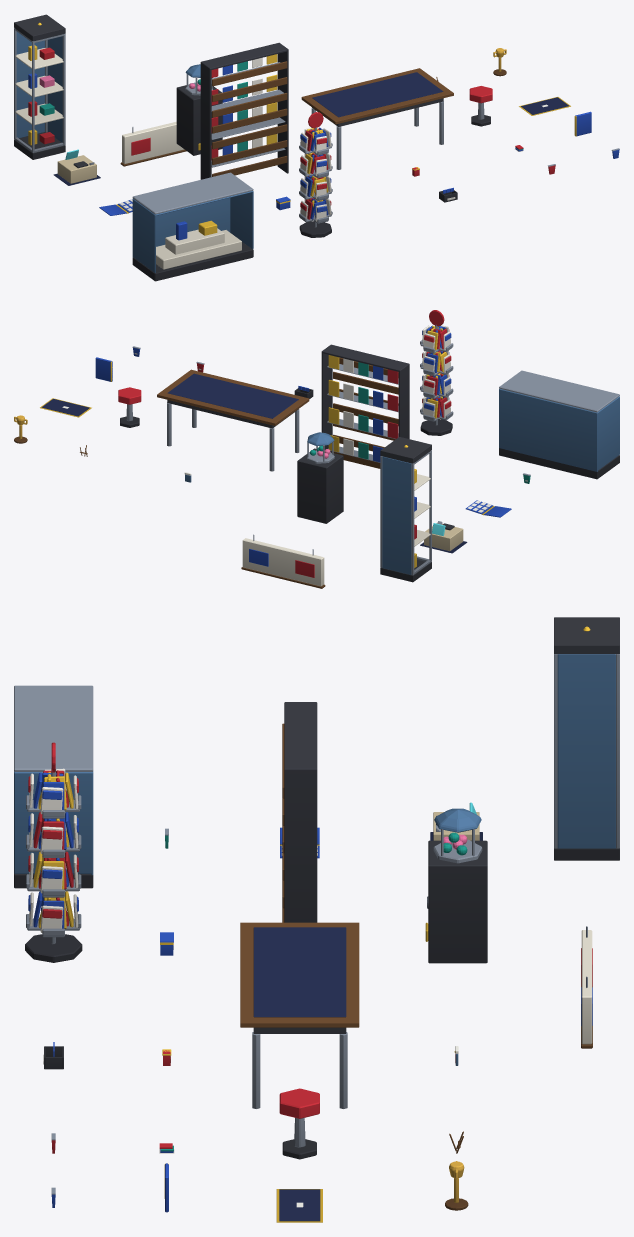
Rendered from pack.fbx.
3 renders of one model, top to bottom at view 1: azimuth 30°, elevation 25°; view 2: azimuth 150°, elevation 25°; view 3: azimuth 270°, elevation 25°, orthographic. The views are drawn at different scales.
Visible parts, largest first — view 1: glass_counter, slat_wall, display_tower, play_table, spinner_rack, gacha_machine, shop_sign, register_pos, play_stool, playmat, binder_closed; view 2: glass_counter, slat_wall, display_tower, play_table, gacha_machine, spinner_rack, shop_sign, register_pos, play_stool, playmat, binder_open, binder_closed; view 3: display_tower, play_table, glass_counter, spinner_rack, gacha_machine, slat_wall, play_stool, playmat, shop_sign.
Boxes of the visible parts, left/top/right/bottom form: glass_counter: left=132, top=172, right=253, bottom=281; slat_wall: left=200, top=42, right=288, bottom=179; display_tower: left=14, top=14, right=65, bottom=159; play_table: left=301, top=68, right=453, bottom=169; spinner_rack: left=299, top=112, right=332, bottom=237; gacha_machine: left=176, top=64, right=222, bottom=155; shop_sign: left=120, top=121, right=186, bottom=166; register_pos: left=53, top=149, right=100, bottom=185; play_stool: left=469, top=86, right=492, bottom=126; playmat: left=519, top=97, right=570, bottom=115; binder_closed: left=574, top=111, right=591, bottom=136; glass_counter: left=499, top=370, right=619, bottom=479; slat_wall: left=321, top=344, right=409, bottom=468; display_tower: left=380, top=437, right=431, bottom=582; play_table: left=157, top=369, right=309, bottom=471; gacha_machine: left=297, top=432, right=343, bottom=523; spinner_rack: left=420, top=310, right=453, bottom=435; shop_sign: left=241, top=534, right=325, bottom=588; register_pos: left=420, top=521, right=467, bottom=553; play_stool: left=118, top=387, right=141, bottom=427; playmat: left=40, top=398, right=91, bottom=417; binder_open: left=465, top=500, right=511, bottom=517; binder_closed: left=95, top=357, right=112, bottom=381; display_tower: left=554, top=617, right=619, bottom=860; play_table: left=240, top=922, right=359, bottom=1108; glass_counter: left=14, top=685, right=93, bottom=888; spinner_rack: left=25, top=742, right=82, bottom=962; gacha_machine: left=425, top=808, right=487, bottom=963; slat_wall: left=282, top=702, right=317, bottom=922; play_stool: left=279, top=1088, right=319, bottom=1159; playmat: left=276, top=1189, right=322, bottom=1222; shop_sign: left=581, top=926, right=592, bottom=1048.
Size of the model in its own units: 7.47 by 2.36 by 4.58.
Materials: 2 (2 with a texture image).
